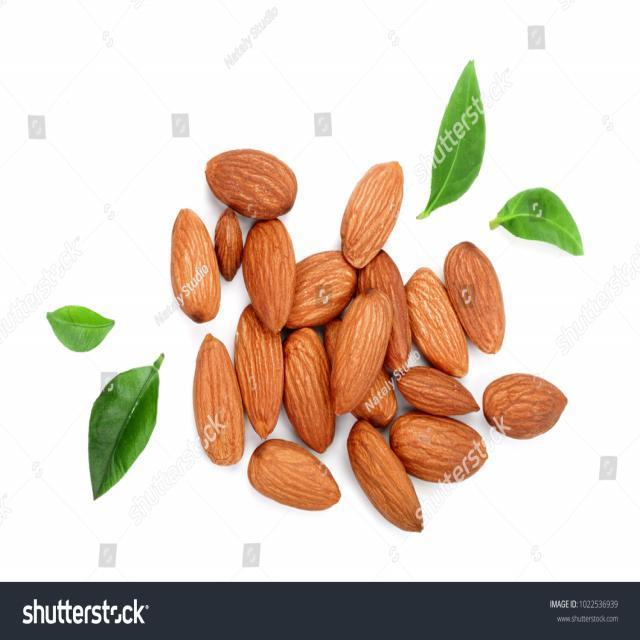almond: (347, 420, 424, 532), (329, 286, 392, 416), (353, 249, 411, 376), (192, 333, 245, 467), (404, 267, 468, 377), (340, 161, 405, 269), (445, 241, 505, 355), (247, 440, 340, 511), (393, 414, 490, 482), (204, 149, 298, 219), (283, 330, 336, 454), (236, 306, 285, 440), (482, 371, 569, 441), (170, 207, 222, 324), (243, 218, 295, 335), (283, 248, 357, 330), (396, 366, 480, 417), (214, 208, 243, 281)
